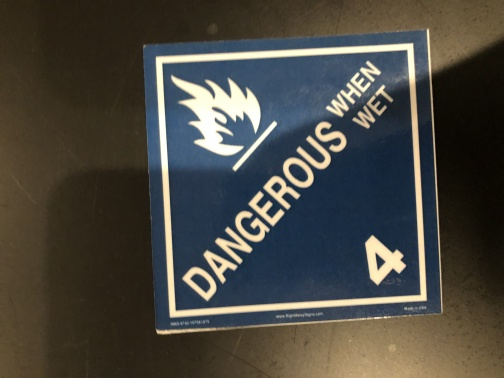DangerousWhenWet: (148, 46, 431, 301)
